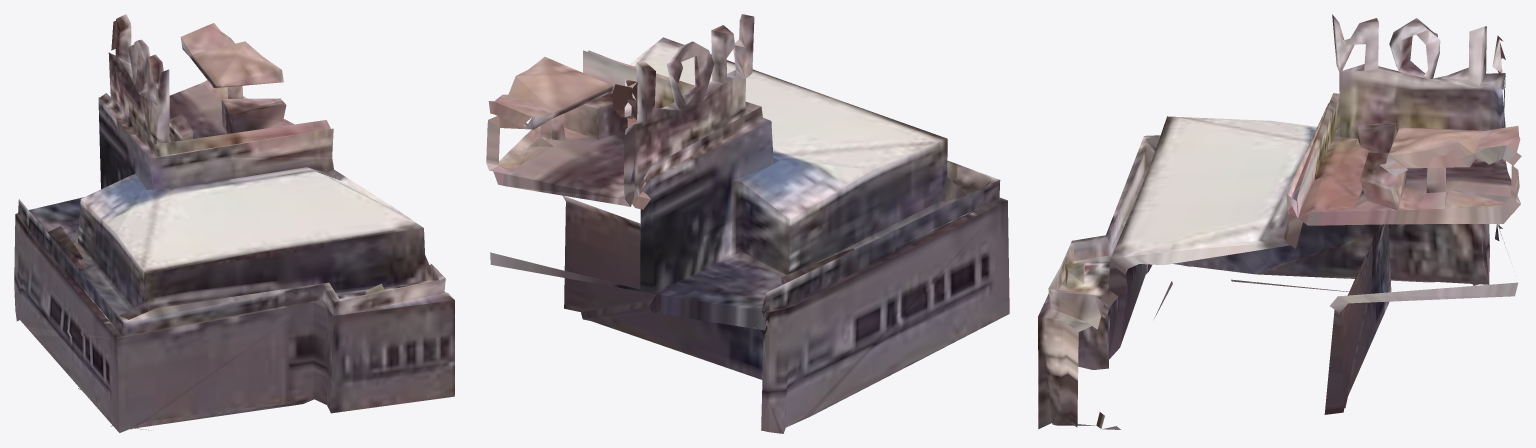
3 renders of one model, left to right at view 1: azimuth 30°, elevation 25°; view 2: azimuth 150°, elevation 25°; view 3: azimuth 270°, elevation 25°, orthographic. The views are drawn at different scales.
Visible parts, largest first — view 1: Mesh_0; view 2: Mesh_0; view 3: Mesh_0.
Part boxes in pixels (bbox=[...]): Mesh_0: bbox=[14, 14, 454, 432]; Mesh_0: bbox=[486, 14, 1009, 433]; Mesh_0: bbox=[1038, 14, 1521, 429].
Size of the model in its own units: 15.15 by 13.28 by 17.93.
1 material, 1 textured.
